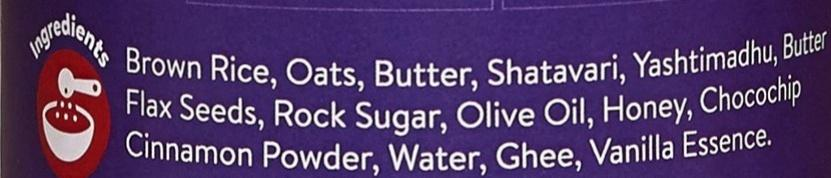ingredients: (115, 22, 831, 178)
